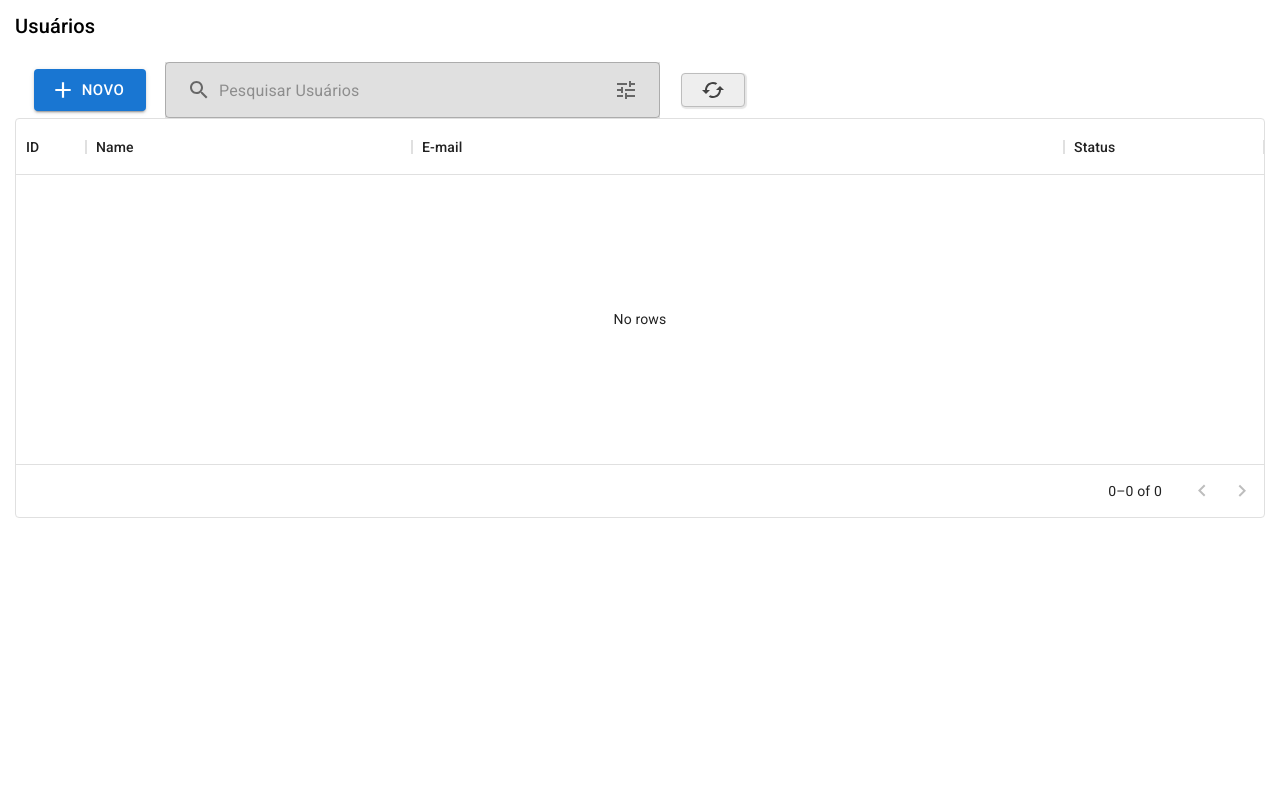
user table header › back button should close the modal
The image size is (1280, 800).
Click the button with test id "new-user-button" at [90, 90], box left=34, top=69, right=146, bottom=111
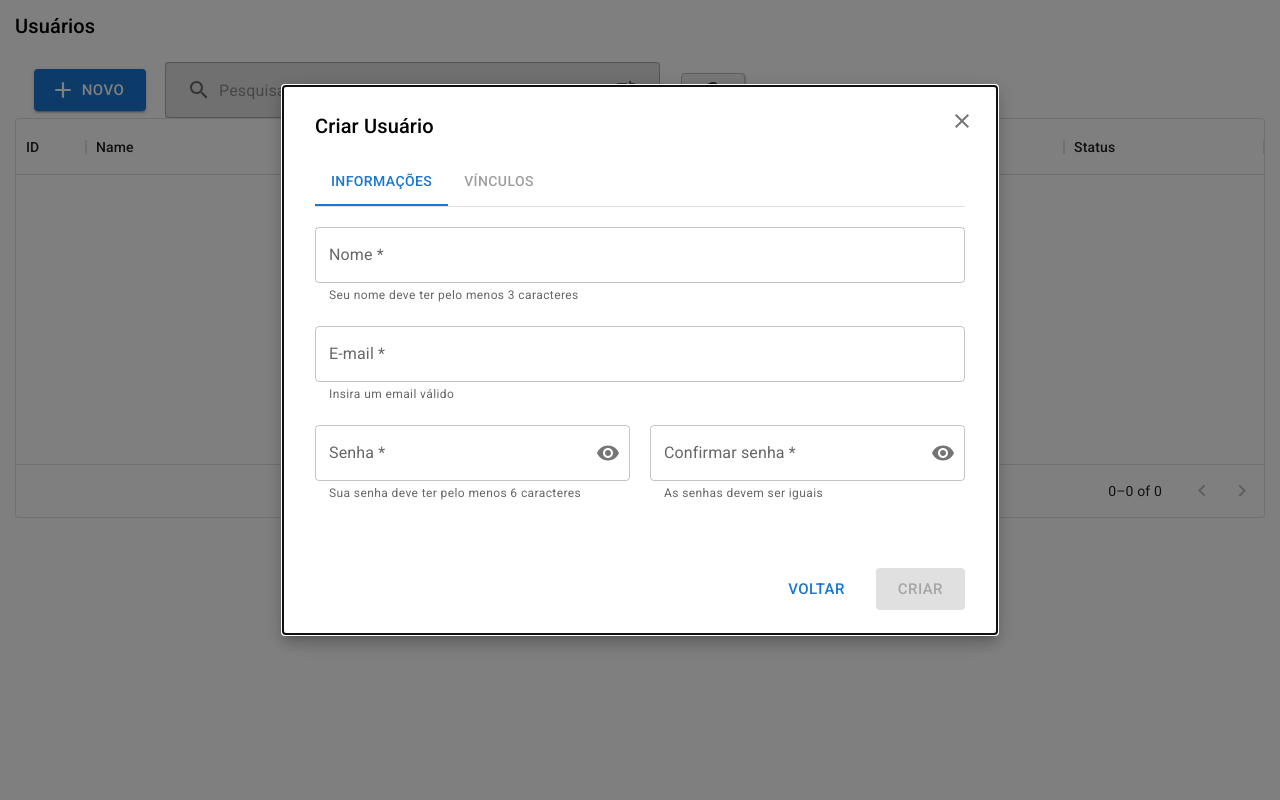
Now the element with test id "new-user-modal" is shown, box left=283, top=86, right=997, bottom=634
Click the button with test id "button-back" at [816, 589], box left=777, top=568, right=856, bottom=610
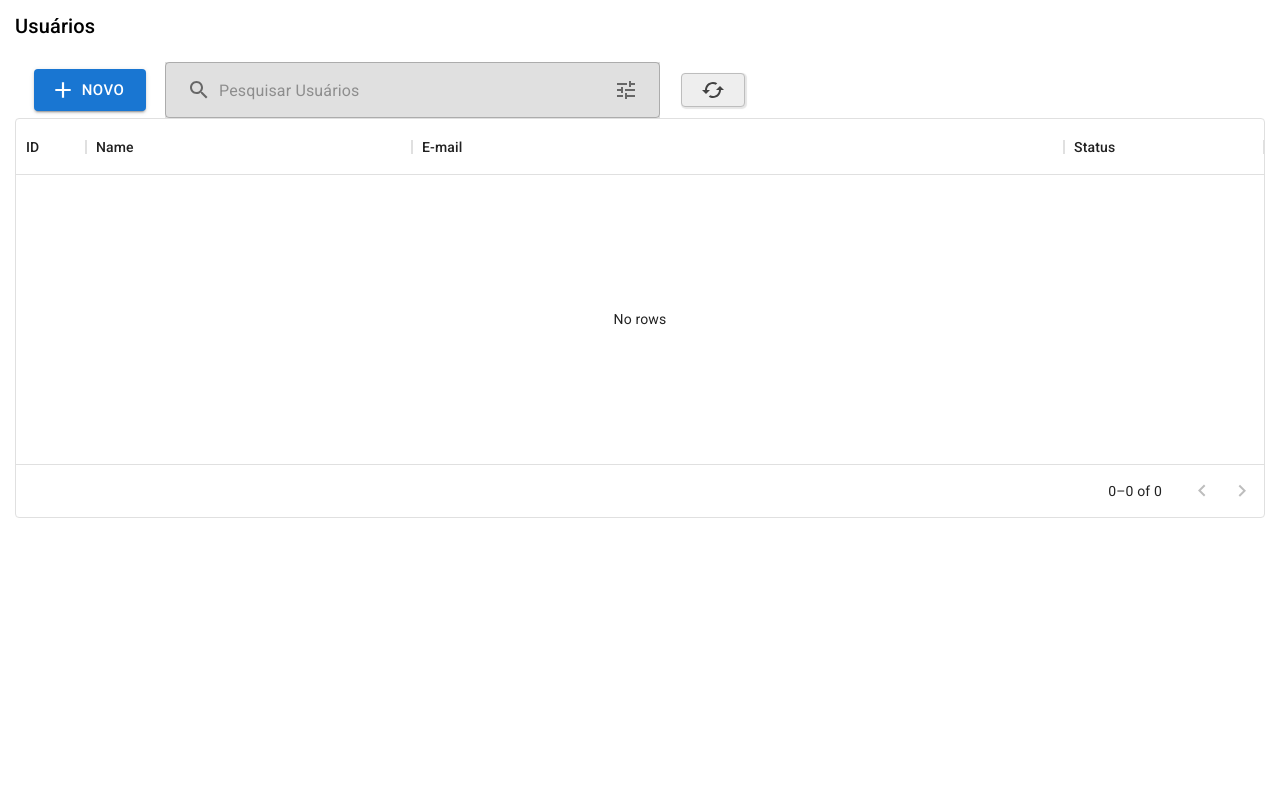
Now the element with test id "new-user-modal" is gone
